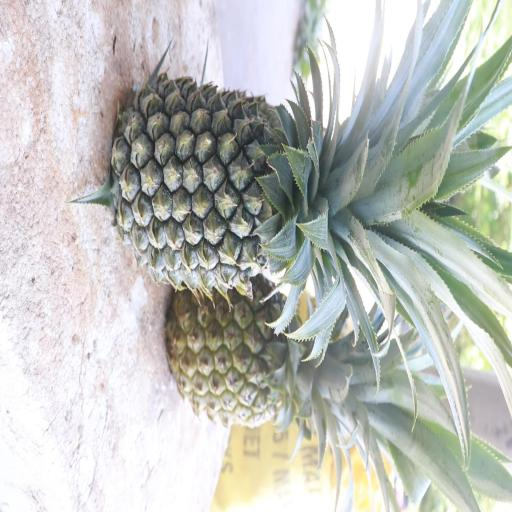------------------------------: (161, 255, 392, 434)
